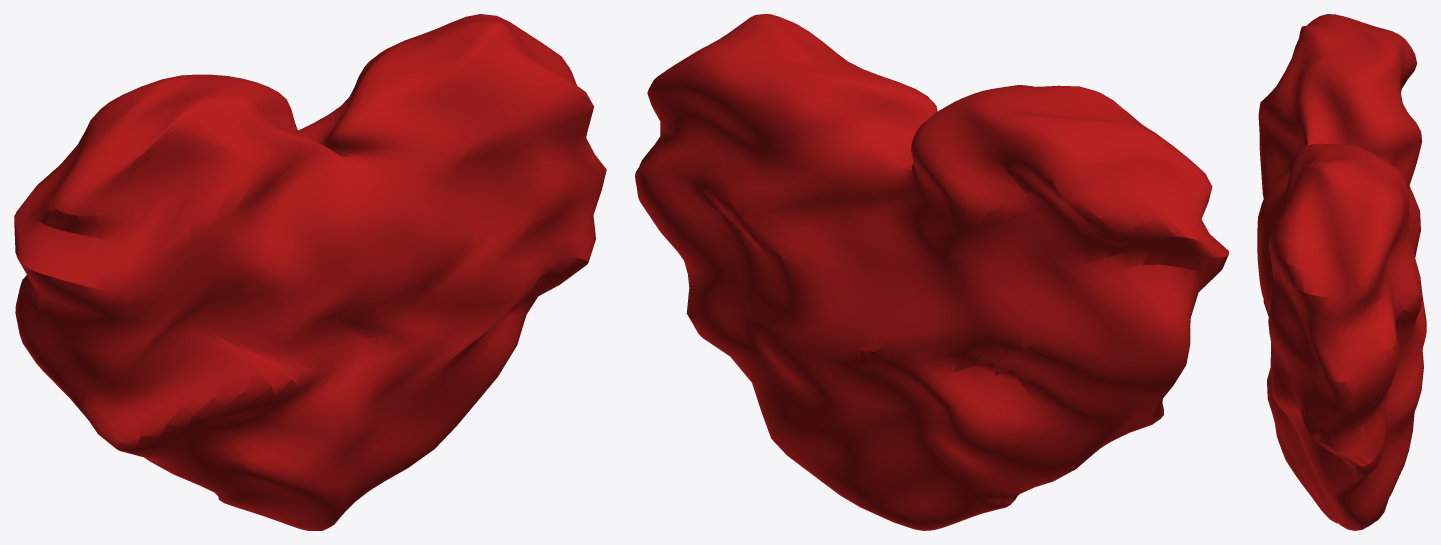
File: 40 heart.obj
The picture shows the model from 3 angles, left to right: view 1: azimuth 30°, elevation 25°; view 2: azimuth 150°, elevation 25°; view 3: azimuth 270°, elevation 25°; orthographic projection. The views are drawn at different scales.
Visible parts, largest first — view 1: 000_Heart; view 2: 000_Heart; view 3: 000_Heart.
Part boxes in pixels (x1=…): 000_Heart: x1=14, y1=14, x2=606, y2=530; 000_Heart: x1=635, y1=14, x2=1228, y2=530; 000_Heart: x1=1257, y1=14, x2=1426, y2=530.
Size of the model in its own units: 281 by 216 by 76.87.
